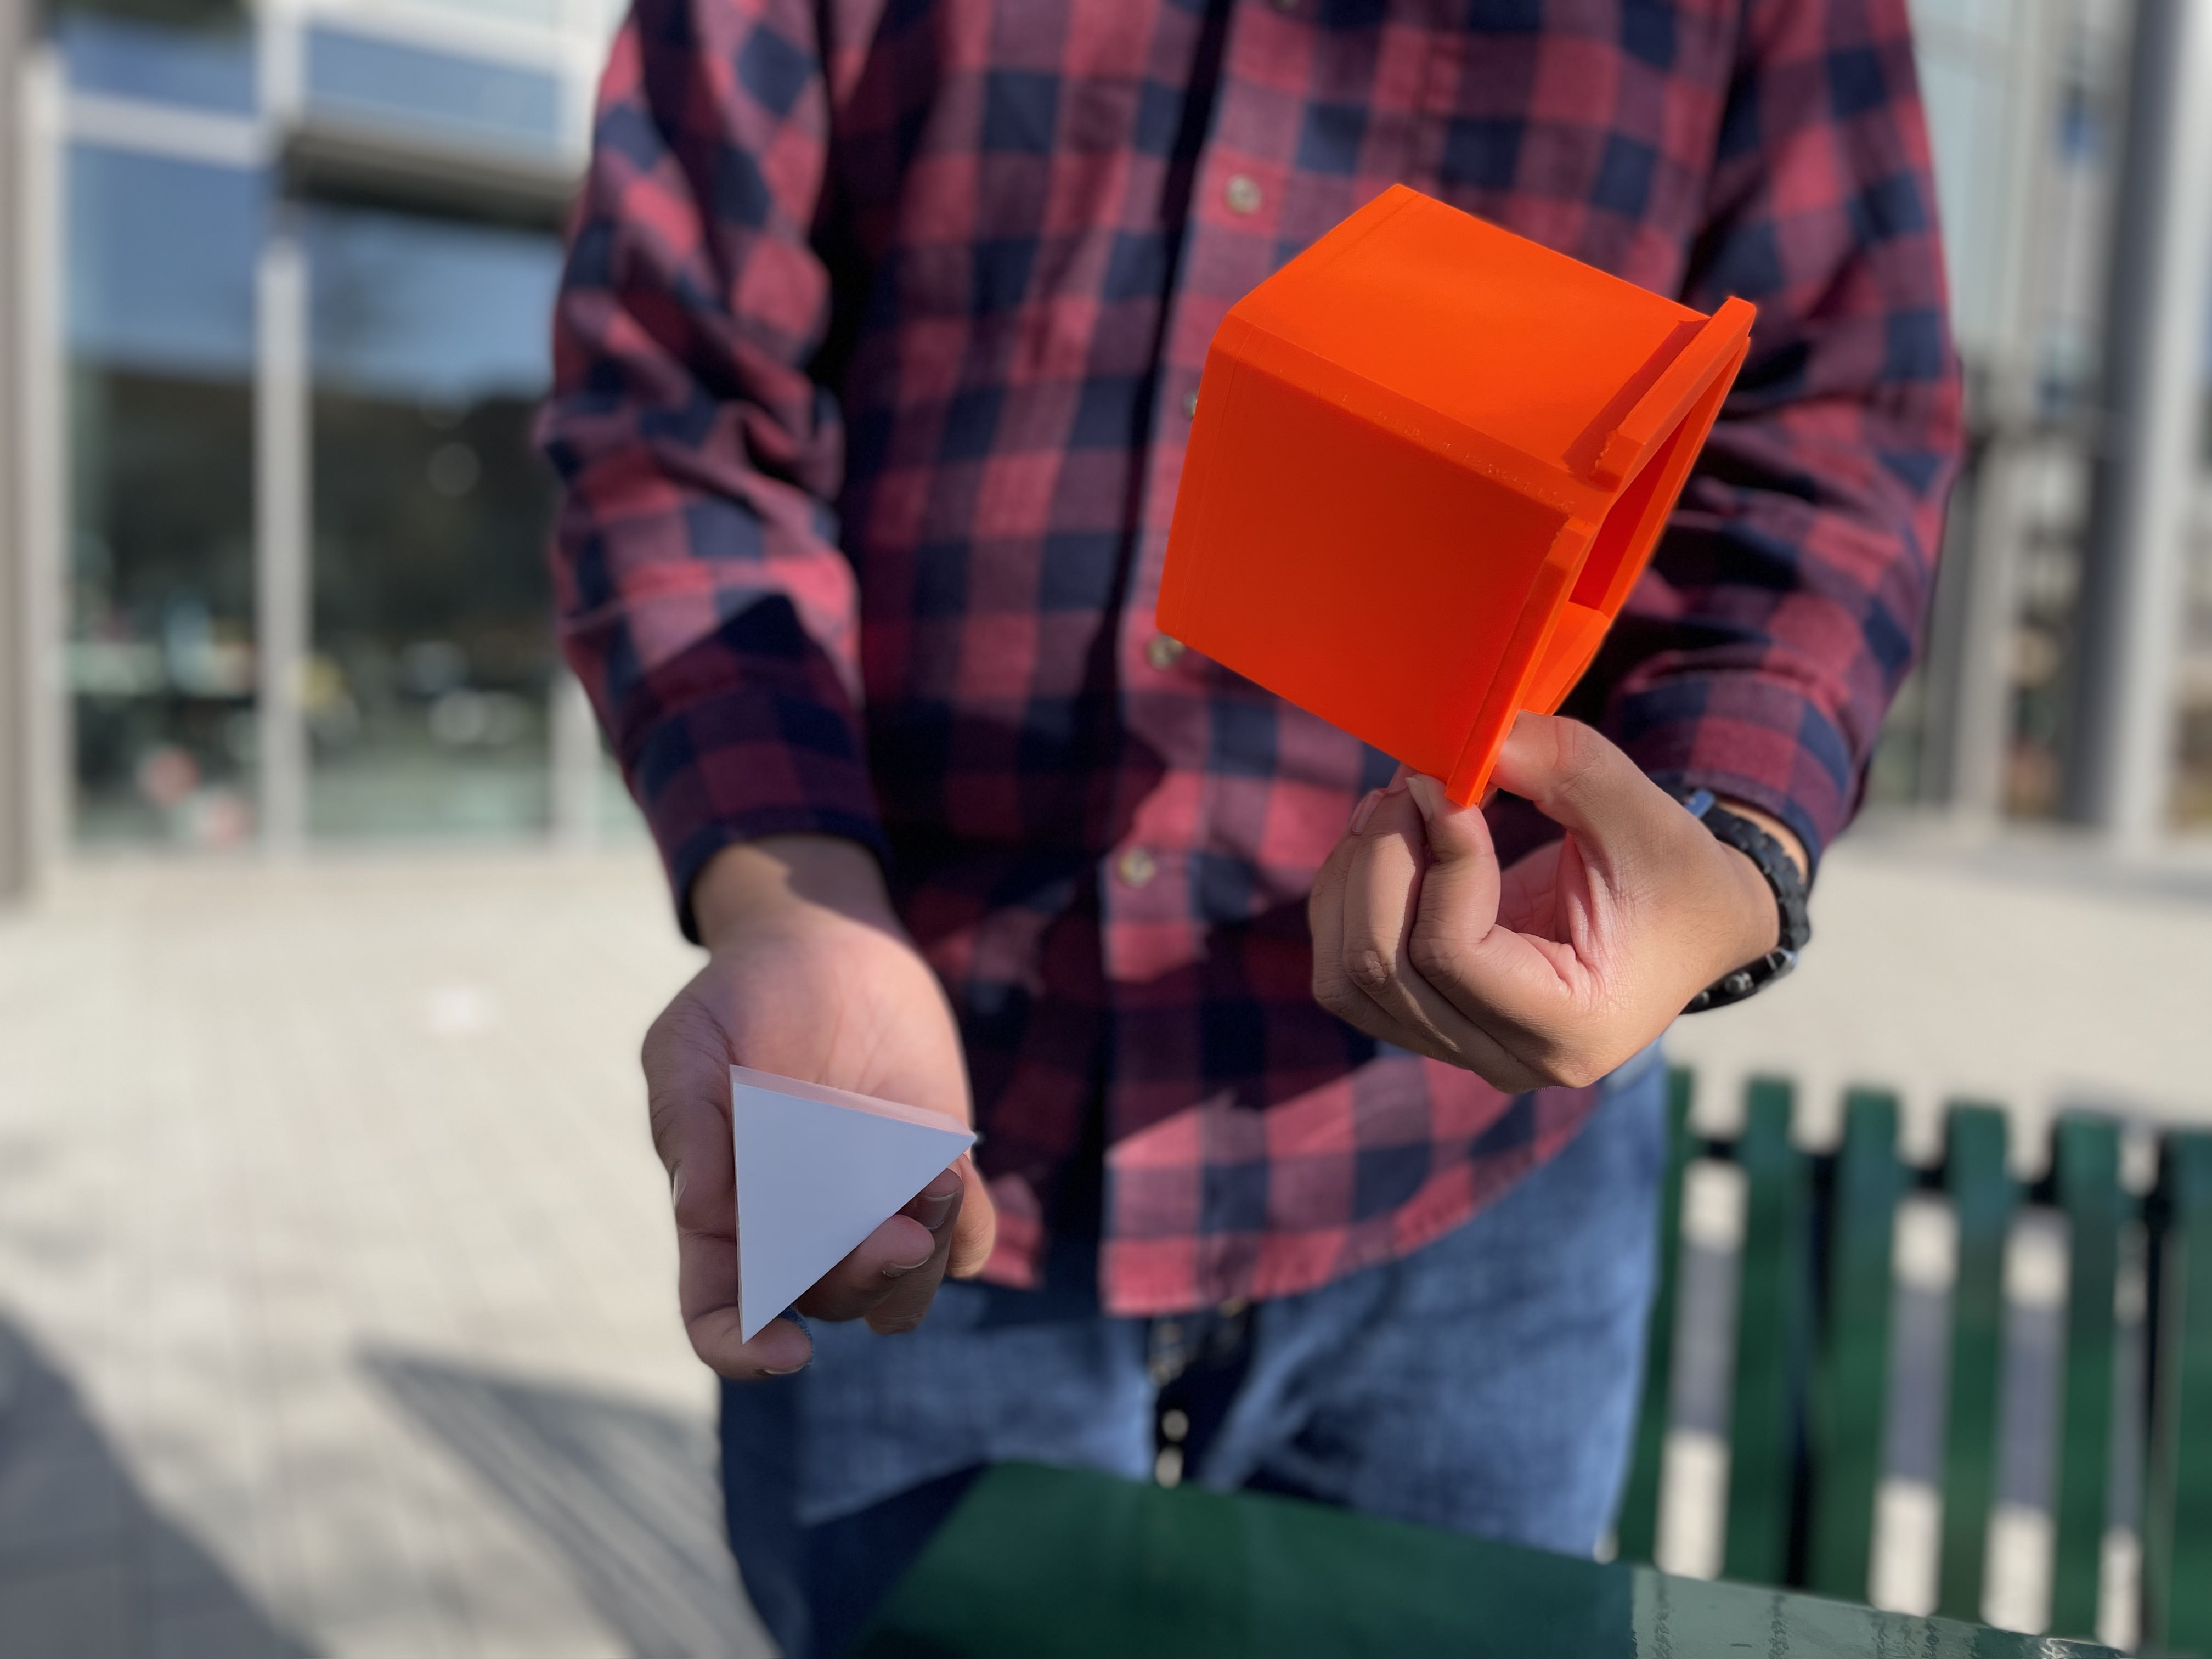payload1: (1143, 166, 1778, 817)
payload2: (672, 1025, 1010, 1380)
